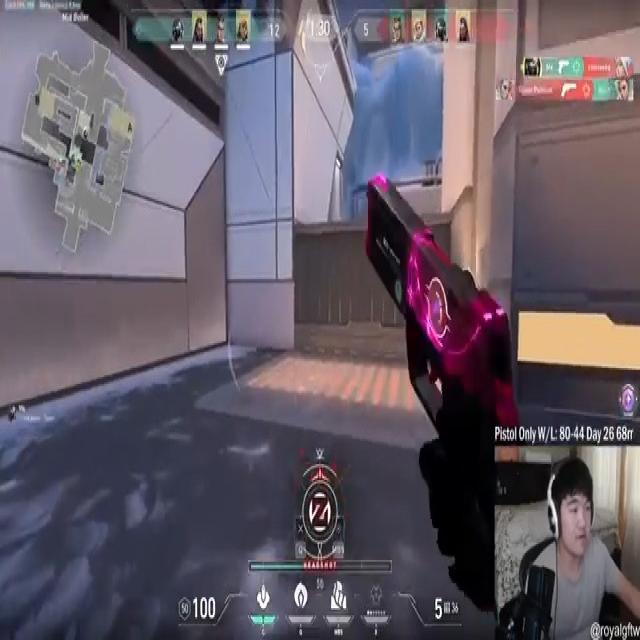gun: (358, 174, 514, 440)
